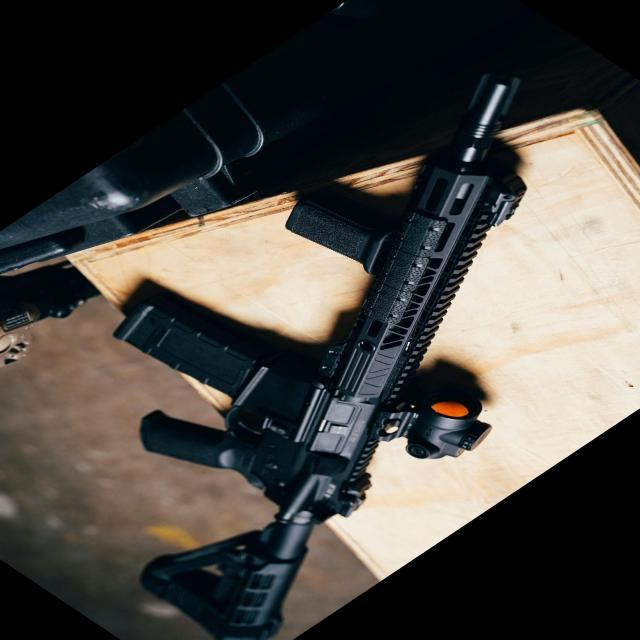weapon: (108, 69, 528, 640)
